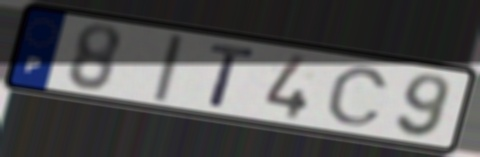4: (262, 51, 313, 121)
8: (65, 21, 125, 94)
9: (391, 71, 453, 141)
C: (323, 64, 393, 128)
I: (149, 32, 187, 105)
T: (207, 40, 259, 110)
